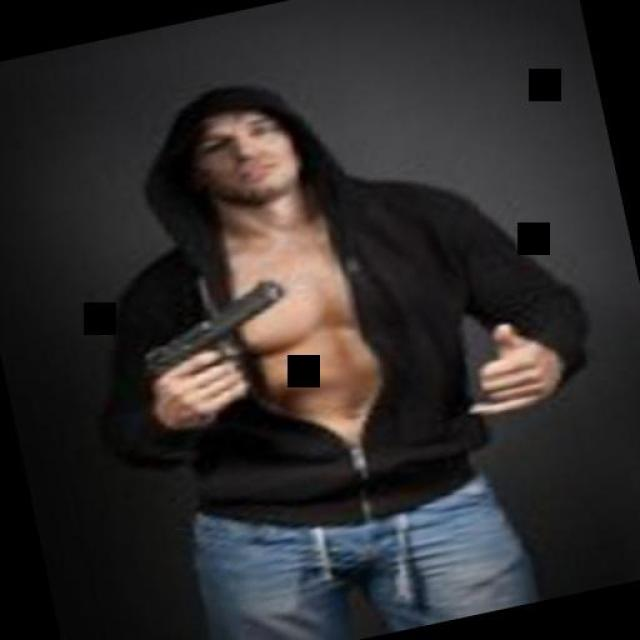gun: (128, 276, 302, 402)
